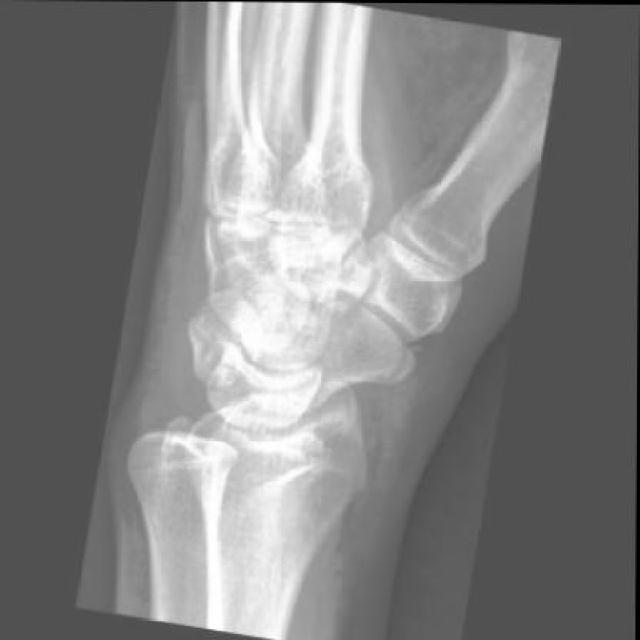Fracture: (372, 337, 419, 391)
